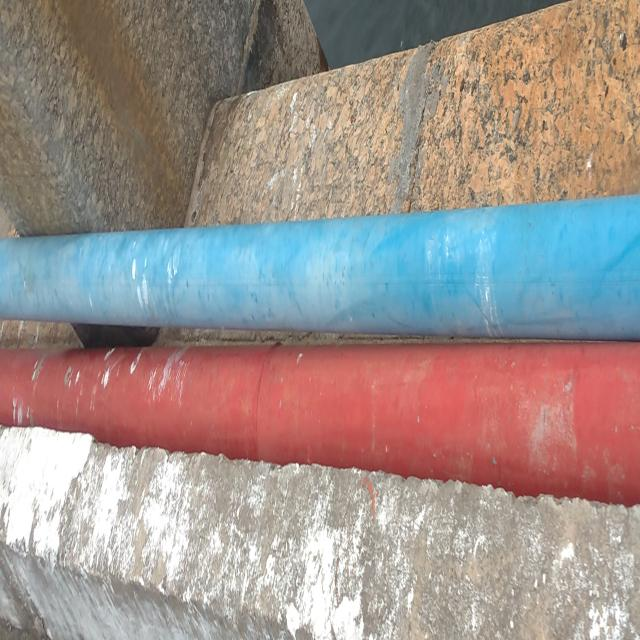gas: (3, 345, 639, 497), (2, 197, 639, 337)
